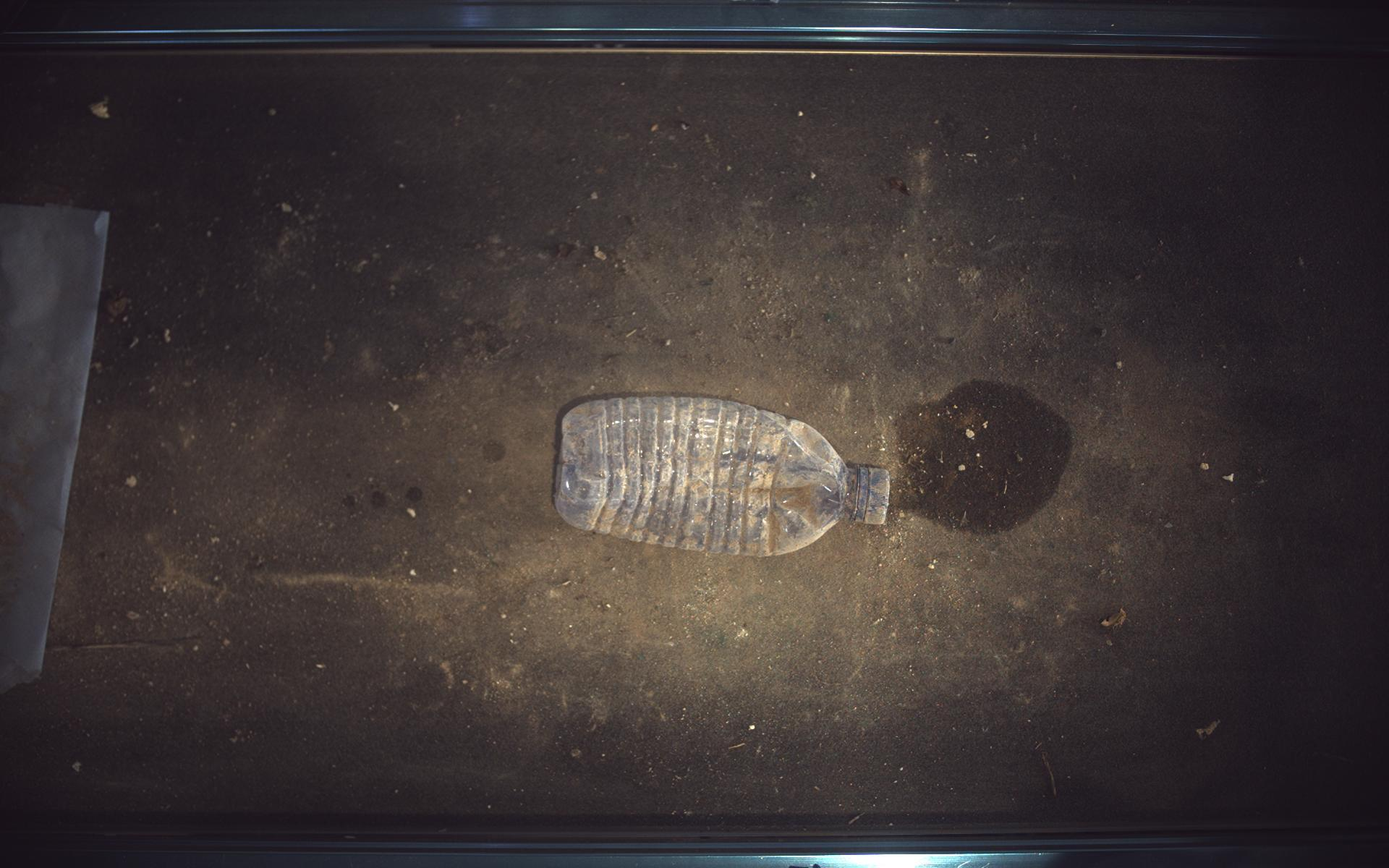general_w: (555, 396, 891, 557)
